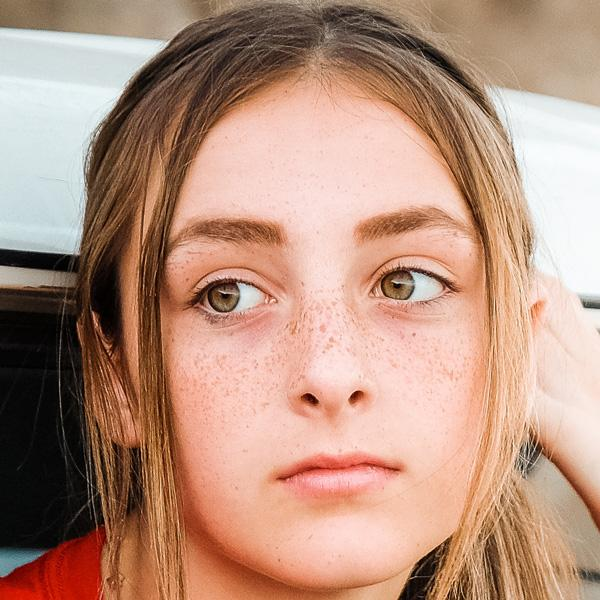Eyes: (175, 259, 286, 333), (359, 246, 468, 321)
